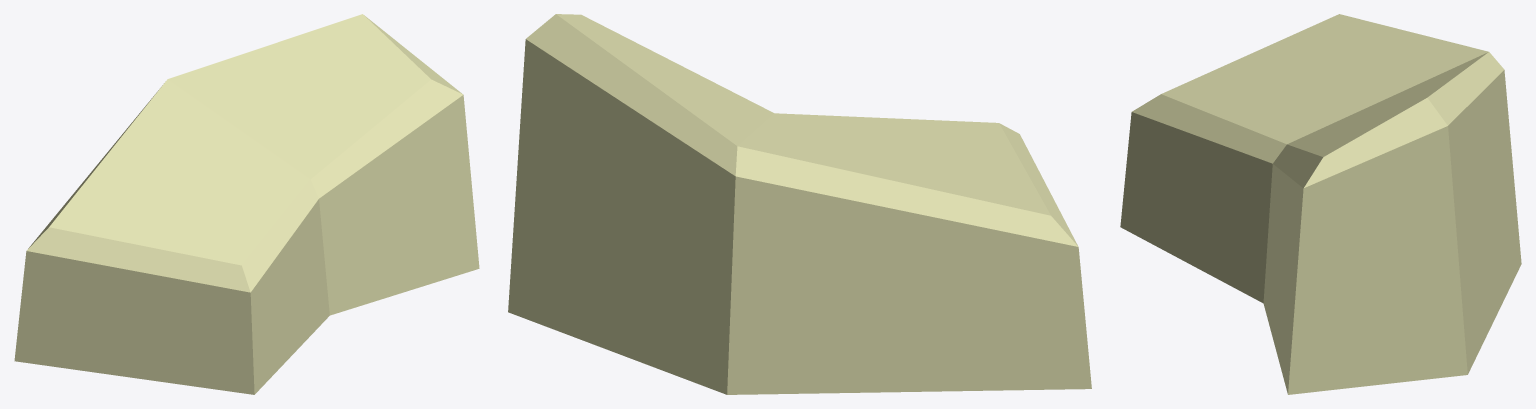
Rendered from Rock_Mesa_Medium_8.fbx.
3 views of the same model, side by side, from view 1: azimuth 30°, elevation 25°; view 2: azimuth 150°, elevation 25°; view 3: azimuth 270°, elevation 25° (orthographic). The views are drawn at different scales.
Parts seen in each view (by area): view 1: Rock; view 2: Rock; view 3: Rock.
Boxes of the visible parts, box(x1,y1,x2,y2) form: Rock: box(14, 14, 479, 394); Rock: box(508, 14, 1091, 394); Rock: box(1120, 14, 1521, 394).
Bounding box in the file's own units: 92.07 × 45.19 × 61.68.
